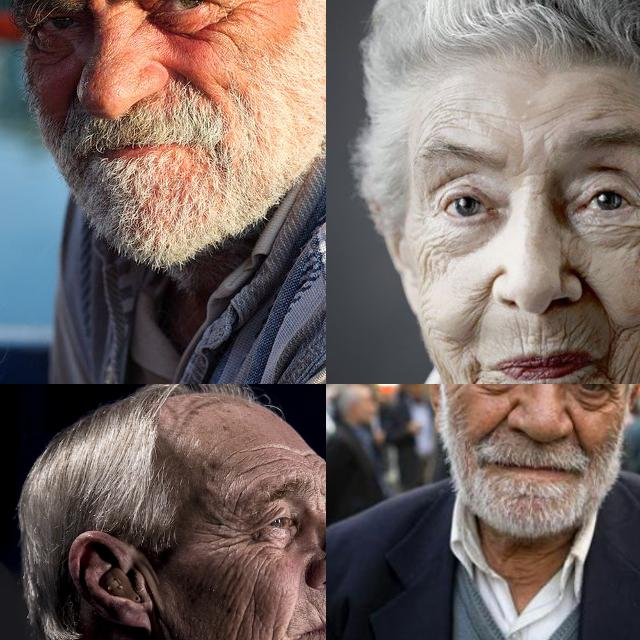crows_feet: (220, 518, 254, 556), (412, 189, 438, 227), (220, 0, 263, 22), (605, 384, 621, 410)
forehead: (427, 104, 498, 134), (577, 95, 640, 122), (230, 454, 288, 478), (300, 450, 324, 474)
frown_line: (510, 160, 550, 182), (514, 130, 532, 168)
gummy_smile: (581, 274, 619, 328), (468, 277, 494, 335), (480, 402, 510, 438), (566, 407, 586, 451), (290, 577, 306, 607)
masseter: (411, 244, 447, 294), (230, 586, 260, 640), (634, 319, 640, 369)
sad_smile: (597, 361, 623, 384), (463, 361, 483, 384), (269, 624, 290, 640)
smoker_lines: (497, 316, 589, 349), (310, 601, 326, 625)
